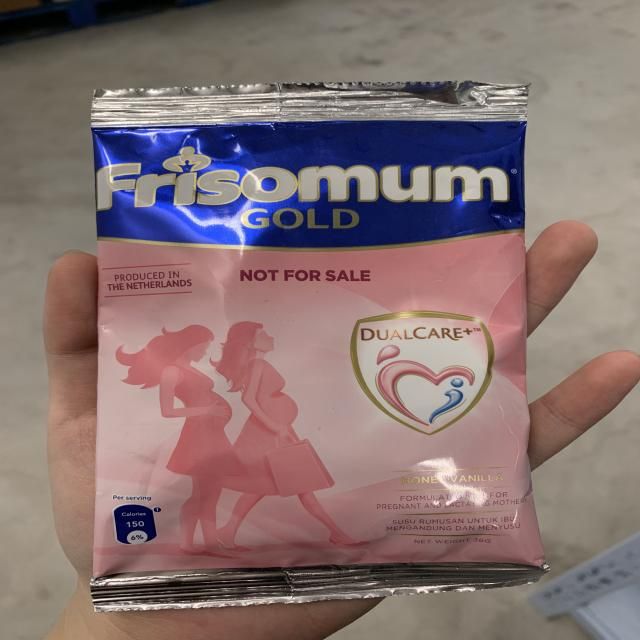object_name: (98, 95, 531, 585)
